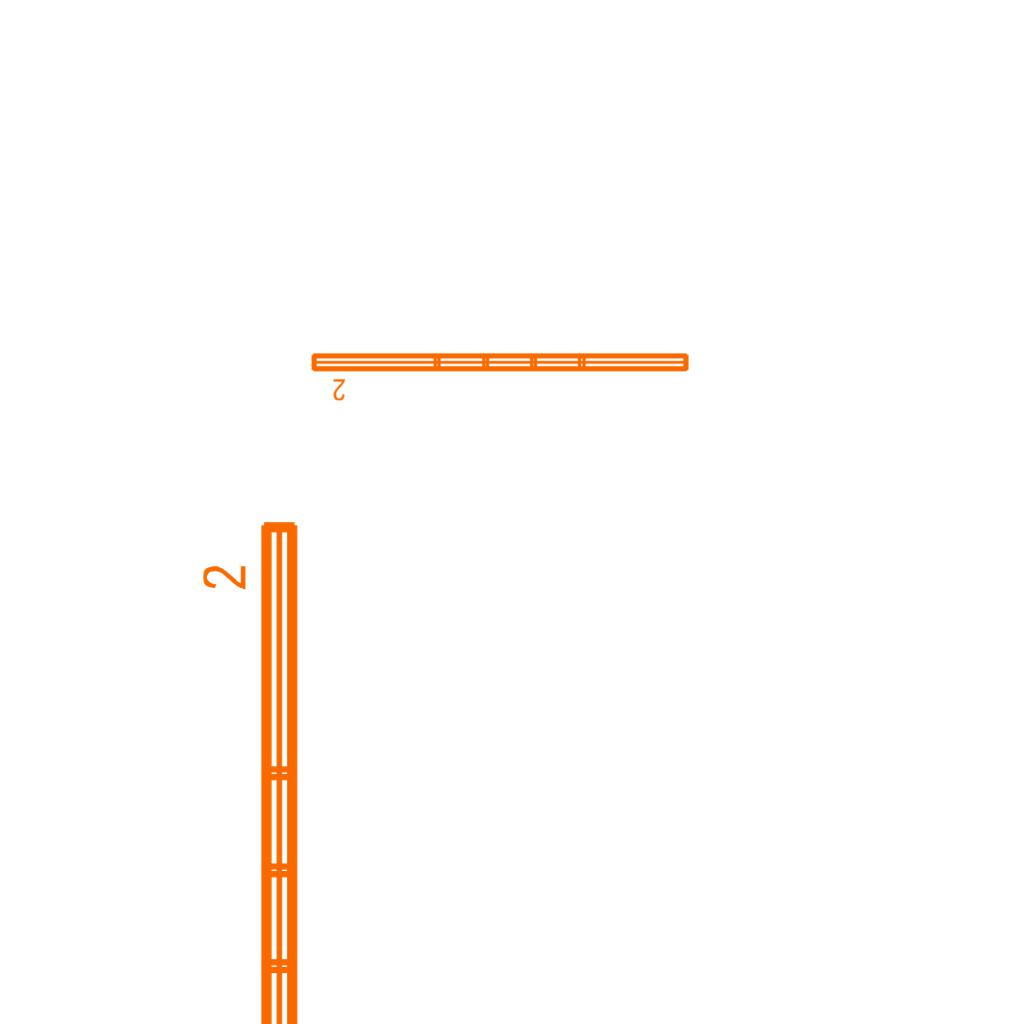Ambulanz_Pendelleuchte_LED: (198, 513, 310, 1024), (307, 347, 694, 403)
